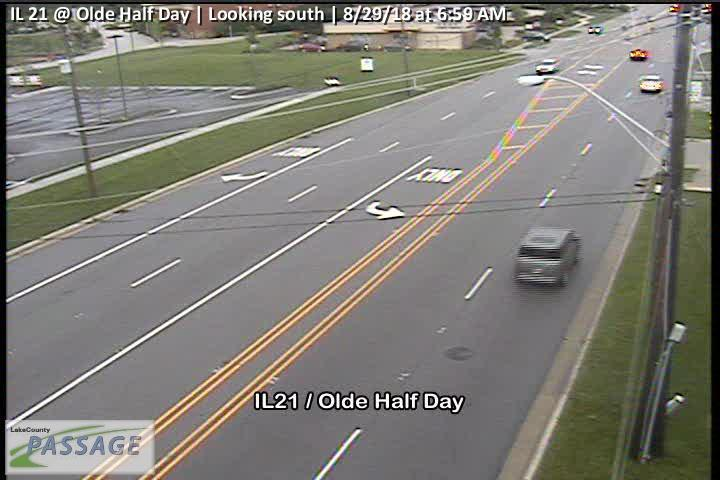SUV: (511, 226, 582, 287), (639, 75, 664, 93), (535, 57, 560, 74)
